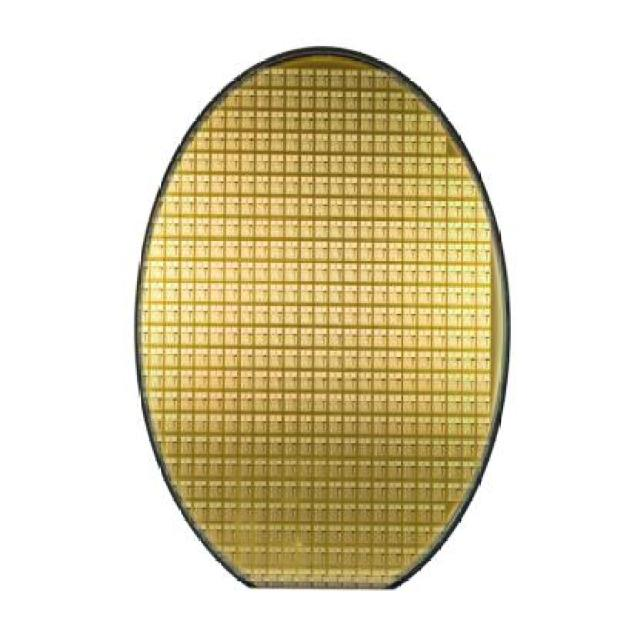Wafer: (129, 46, 511, 592)
